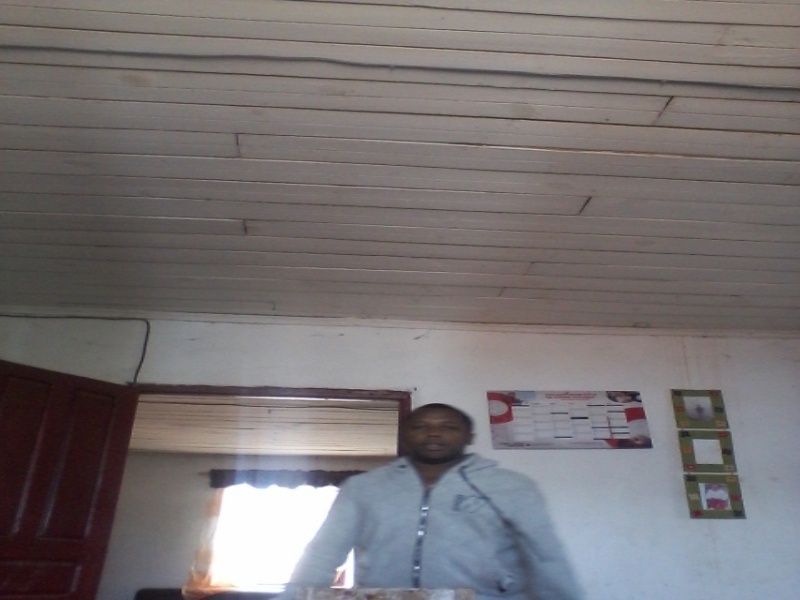TsisyArotava: (394, 401, 486, 474)
